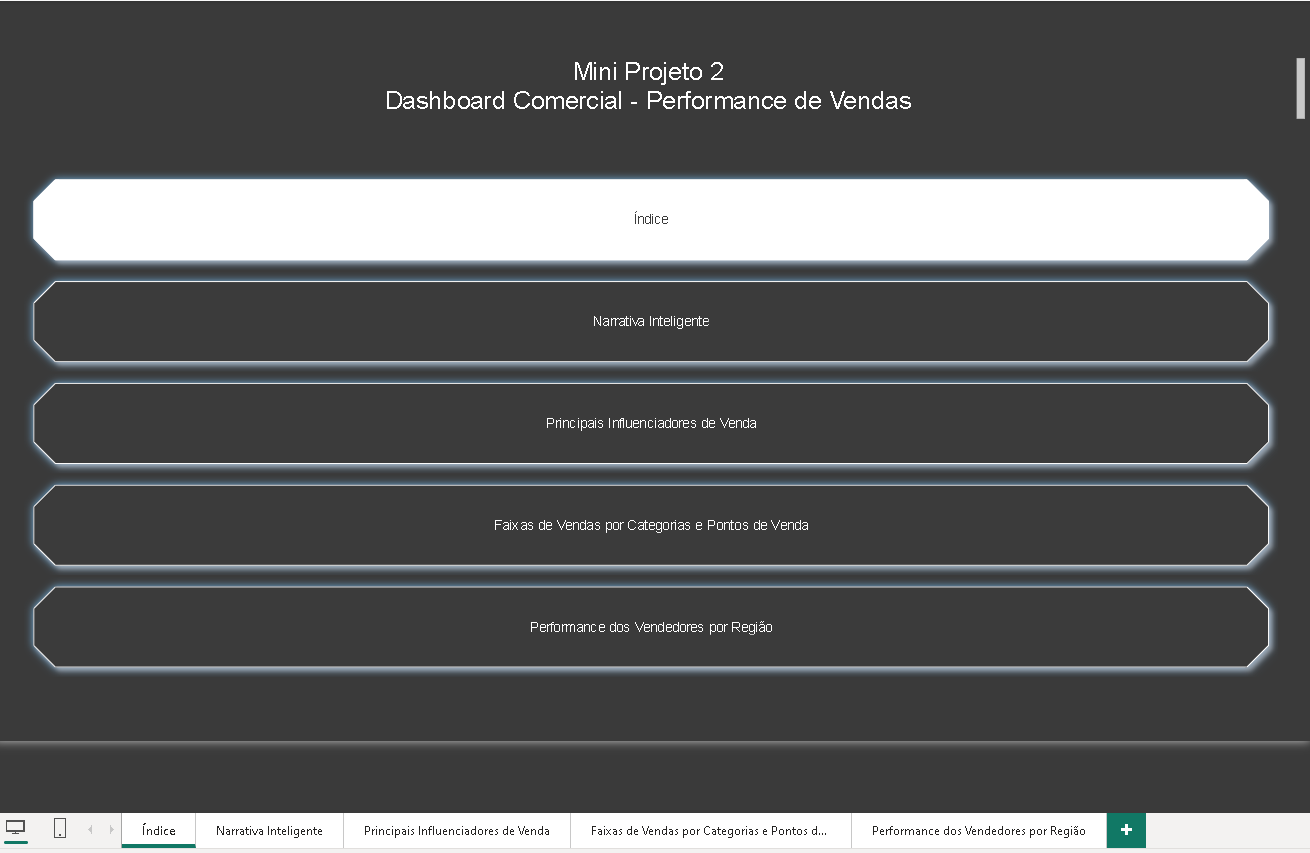

This screenshot's page, from the dashboard's own definition file:
{"tool":"powerbi","page":{"name":"Índice","canvas":[1280,720],"ordinal":0},"visuals":[{"type":"pageNavigator","box":[29.2,164.4,1220.7,498],"z":0},{"type":"textbox","box":[0,50.6,1280,74.9],"z":1}]}

Visuals, with their boxes on the page's 1280x720 design canvas (x1, y1, x2, y2). These are canvas units, not pixel positions in the 1310x853 screenshot, which may show the page scaled, cropped or inside an application window:
pageNavigator: [29,164,1250,662]
textbox: [0,51,1280,126]
